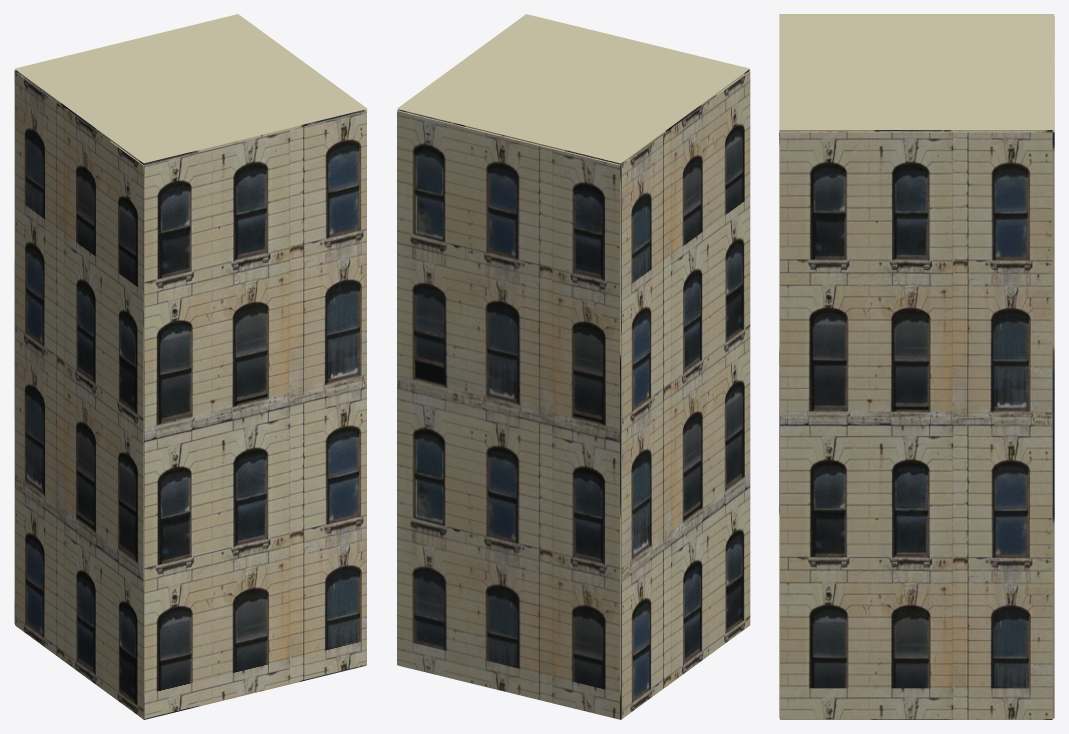
Rendered from Edificio6.obj.
3 views of the same model, side by side, from view 1: azimuth 30°, elevation 25°; view 2: azimuth 150°, elevation 25°; view 3: azimuth 270°, elevation 25° (orthographic). The views are drawn at different scales.
Visible parts, largest first — view 1: Edificio_SinDiseno3:polySurface4; view 2: Edificio_SinDiseno3:polySurface4; view 3: Edificio_SinDiseno3:polySurface4.
Part boxes in pixels (x1=…): Edificio_SinDiseno3:polySurface4: x1=14, y1=14, x2=367, y2=719; Edificio_SinDiseno3:polySurface4: x1=397, y1=14, x2=750, y2=719; Edificio_SinDiseno3:polySurface4: x1=779, y1=14, x2=1054, y2=719.
Bounding box in the file's own units: 2.87 × 6.81 × 2.88.
1 material, 1 textured.
